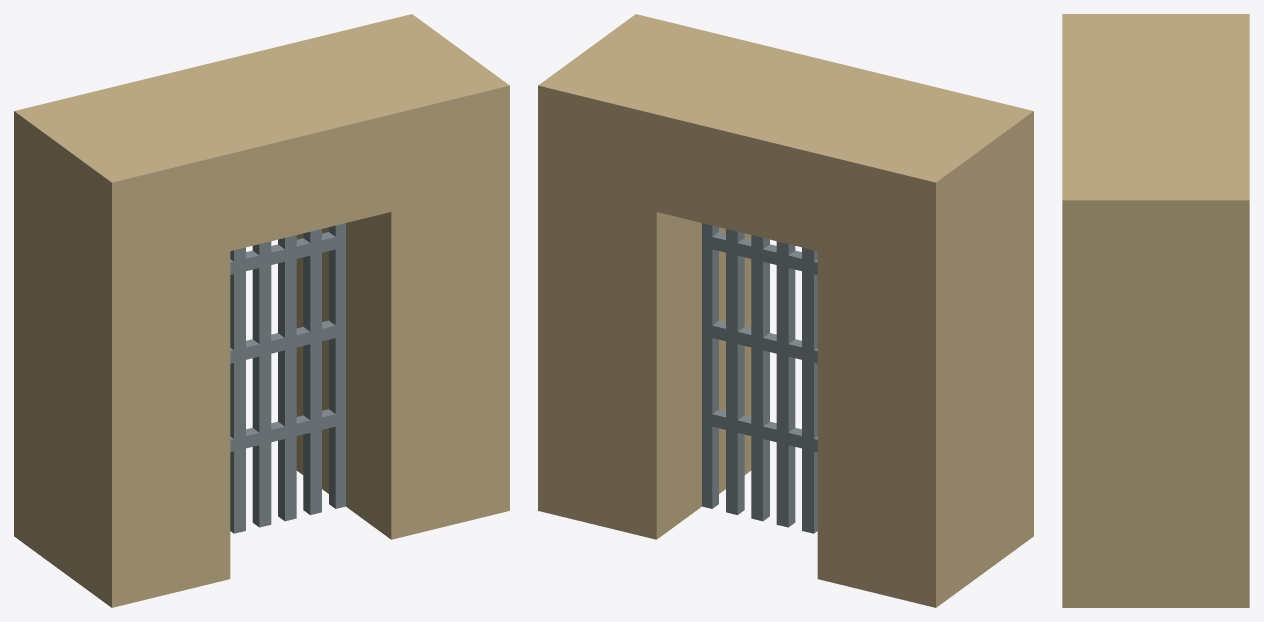
The model's file is b-gate-ayyubid.glb.
3 views of the same model, side by side, from view 1: azimuth 30°, elevation 25°; view 2: azimuth 150°, elevation 25°; view 3: azimuth 270°, elevation 25° (orthographic). The views are drawn at different scales.
Visible parts, largest first — view 1: Structure, gatePanel; view 2: Structure, gatePanel; view 3: Structure.
Boxes of the visible parts, x1,y1,x2,y2 form: Structure: (14, 14, 509, 607); gatePanel: (230, 223, 345, 533); Structure: (538, 14, 1033, 607); gatePanel: (702, 223, 817, 533); Structure: (1062, 14, 1249, 607).
Size of the model in its own units: 4.7 by 4.8 by 2.
